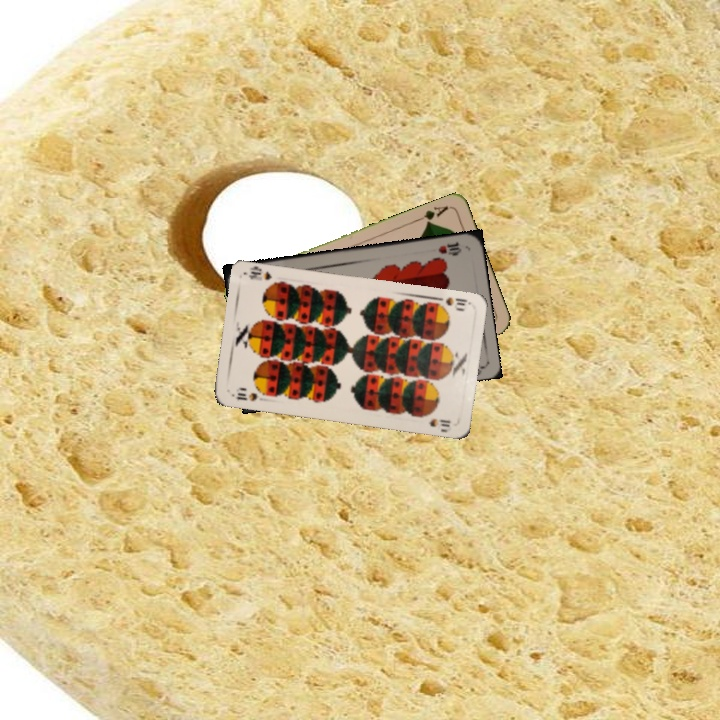GA: (413, 202, 451, 227)
H10: (434, 238, 464, 257)
S10: (431, 293, 472, 311), (232, 389, 260, 404)
